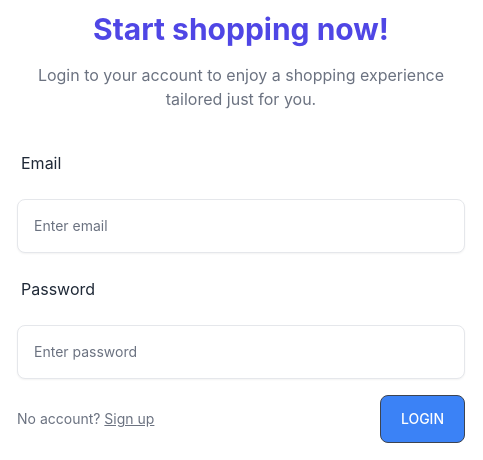
Test: Login › login button should be disabled if › disabled if email field is empty
The image size is (483, 460).
Click the password field labelled "Password" at [241, 352], box [17,325,465,379]
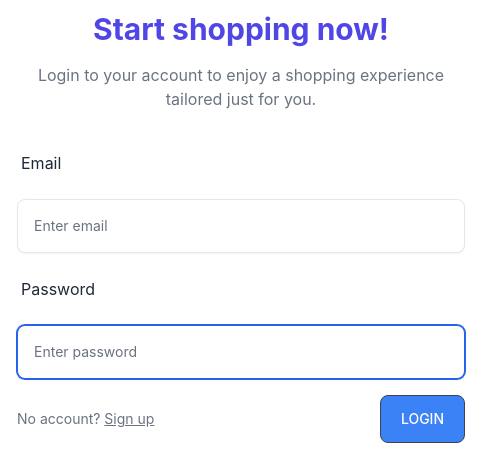
Type keys "asdfasdf"
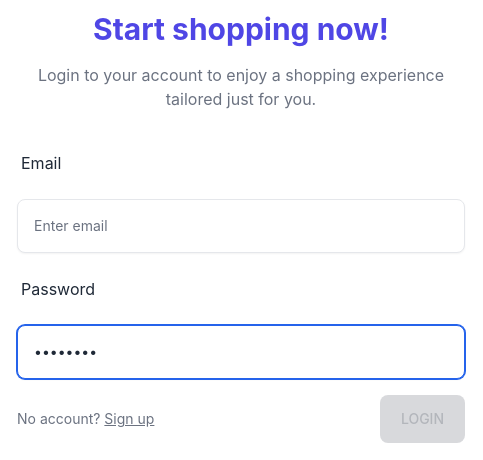
Check: the button "Login" is disabled, box [380,395,465,443]
